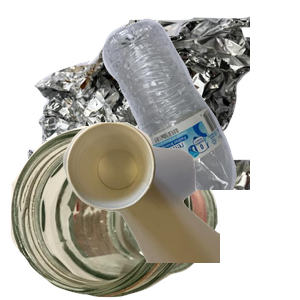glass: (10, 126, 220, 300)
metal: (19, 14, 259, 194)
plastic: (100, 16, 300, 196)
trash: (60, 120, 300, 300)
